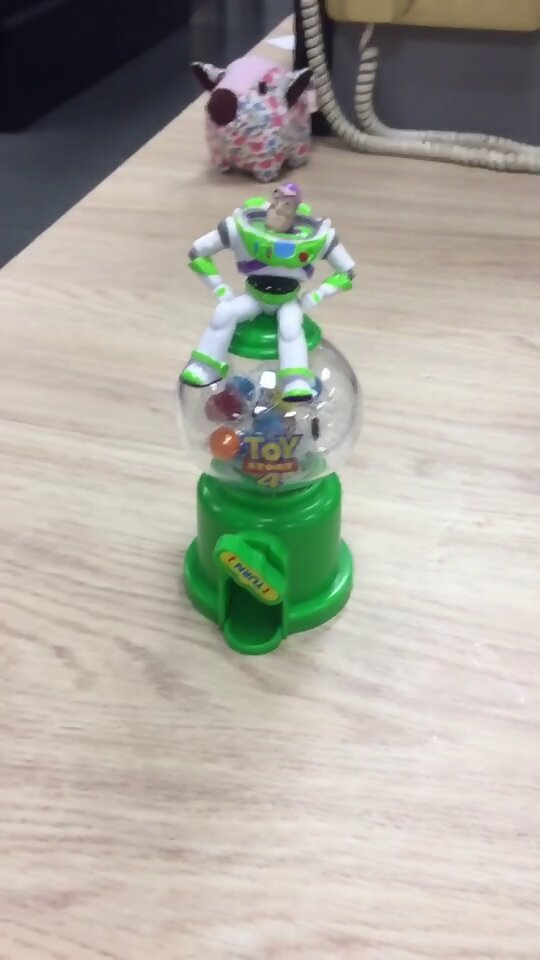buzz: (176, 178, 361, 659)
